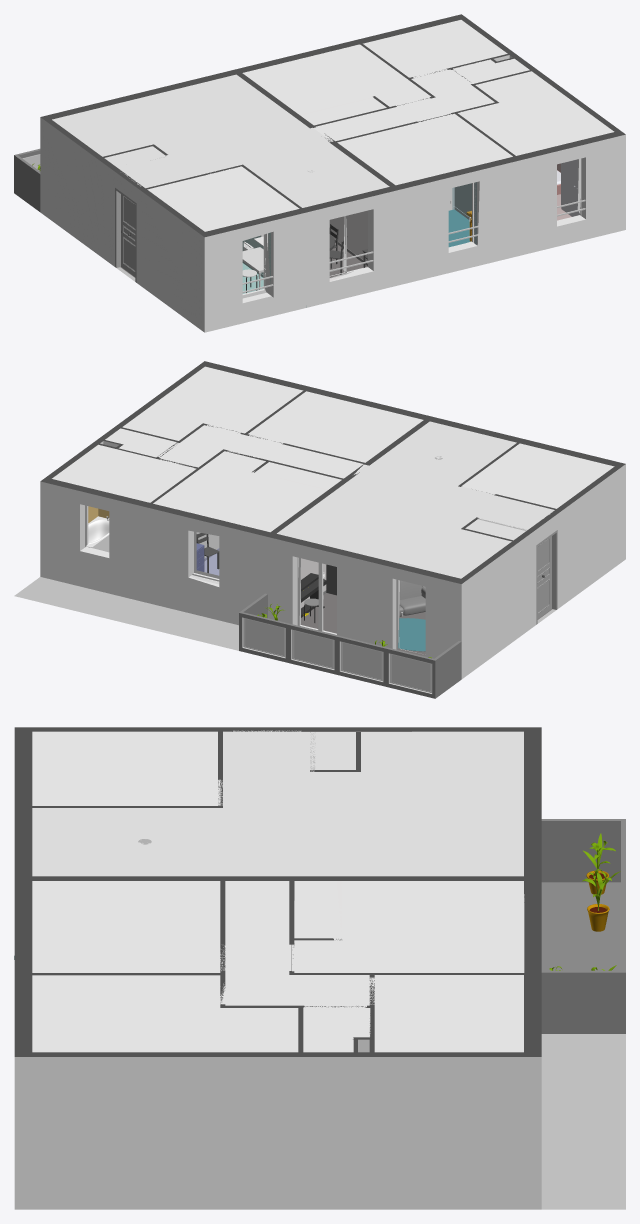
Rendered from demo_apt2.glb.
3 renders of one model, top to bottom at view 1: azimuth 30°, elevation 25°; view 2: azimuth 150°, elevation 25°; view 3: azimuth 270°, elevation 25°, orthographic. The views are drawn at different scales.
Parts seen in each view (by area): view 1: demo_apt; view 2: demo_apt; view 3: demo_apt.
Part boxes in pixels (left/top/right/bottom): demo_apt: left=14, top=14, right=625, bottom=332; demo_apt: left=14, top=361, right=625, bottom=698; demo_apt: left=14, top=727, right=625, bottom=1209.
Bounding box in the file's own units: 1156 × 250 × 907.
